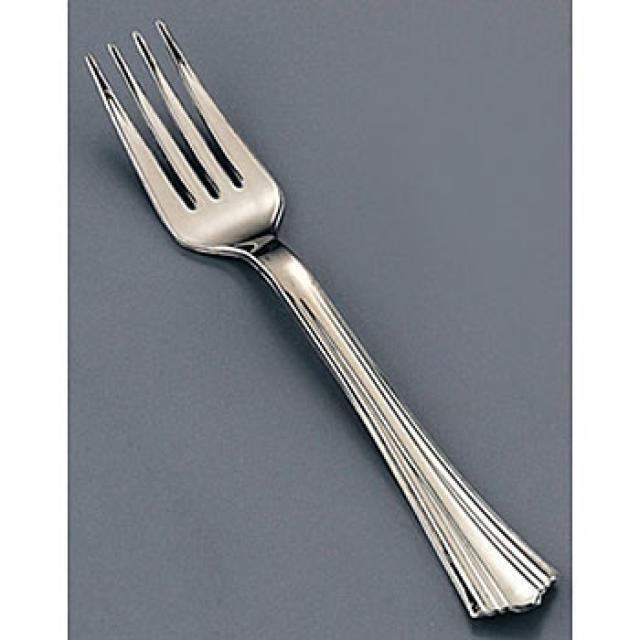spoon: (85, 22, 556, 618)
